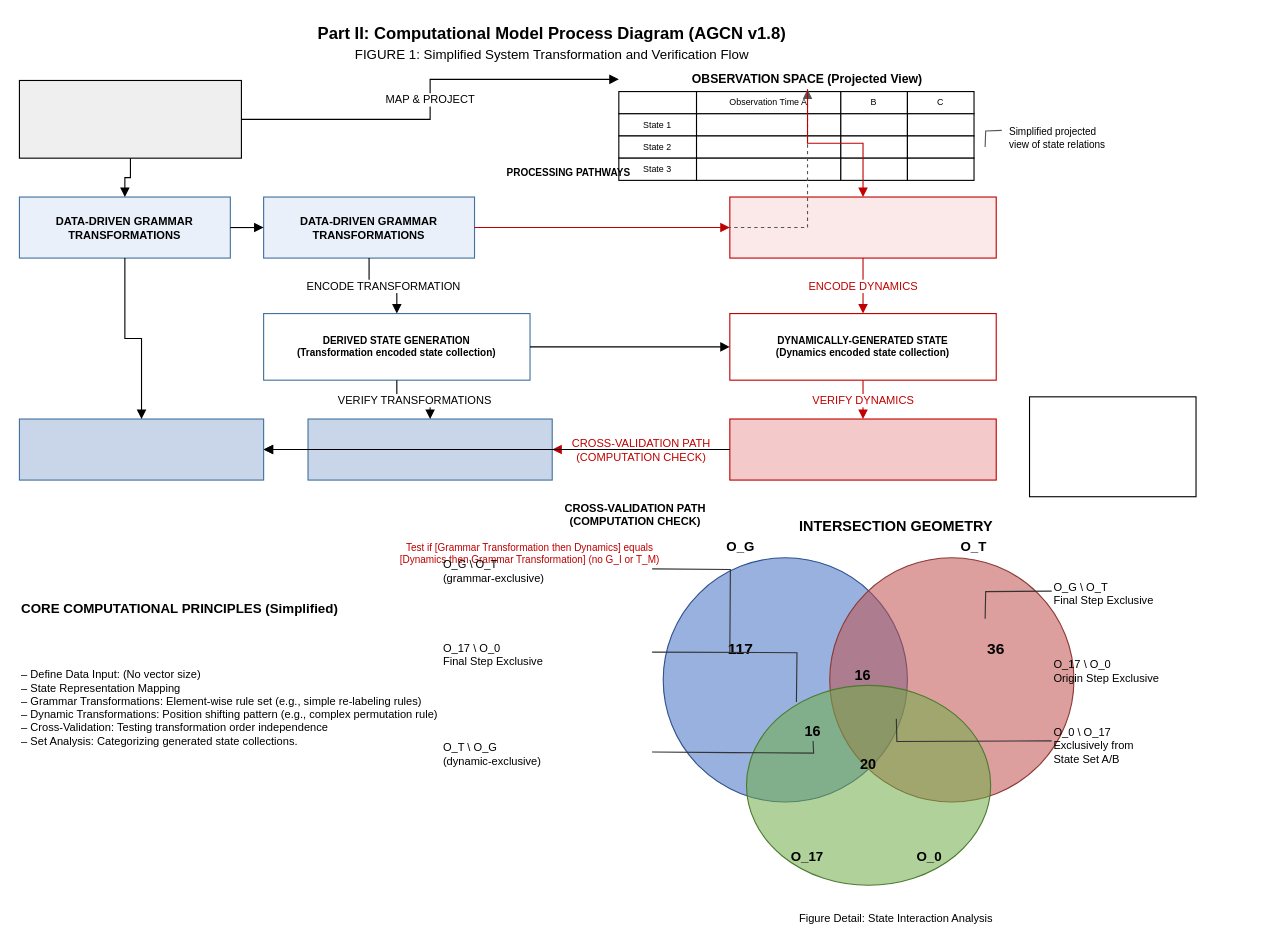
The diagram is 1282 pixels wide and 948 high, and some of its shapes have lost their labels. Here are the shapes that lost their labels. From the top down, the box of each, then its label:
(18, 79, 241, 158): INPUT: SOURCE DATA SUBSTRATE (e.g., initial array)
(729, 196, 996, 258): DYNAMIC SHIFT/PERMUTATION TRANSFORMS
(18, 418, 264, 480): PREDICTED INTERSECTION
(307, 418, 552, 480): GRAMMAR INTERSECTION STATE SET
(729, 418, 996, 480): DYNAMICALLY-GENERATED STATE SET
(1028, 396, 1196, 497): EMPIRICAL STATUS: (Pending Verification)
